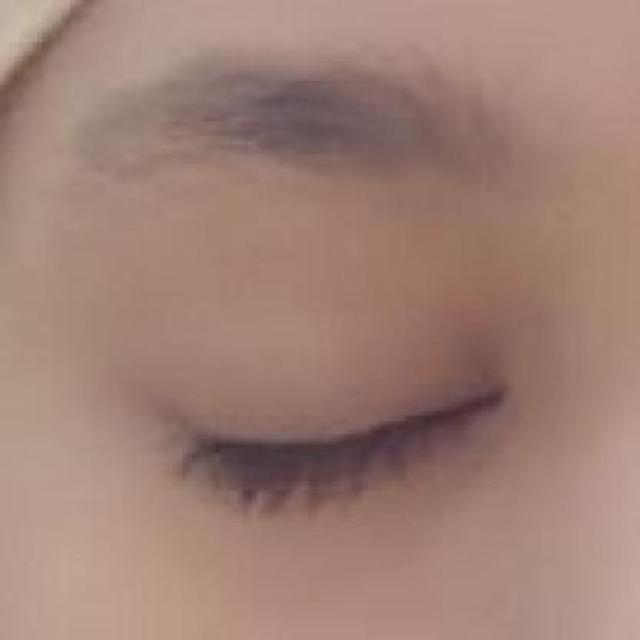drowsy: (168, 305, 508, 601)
